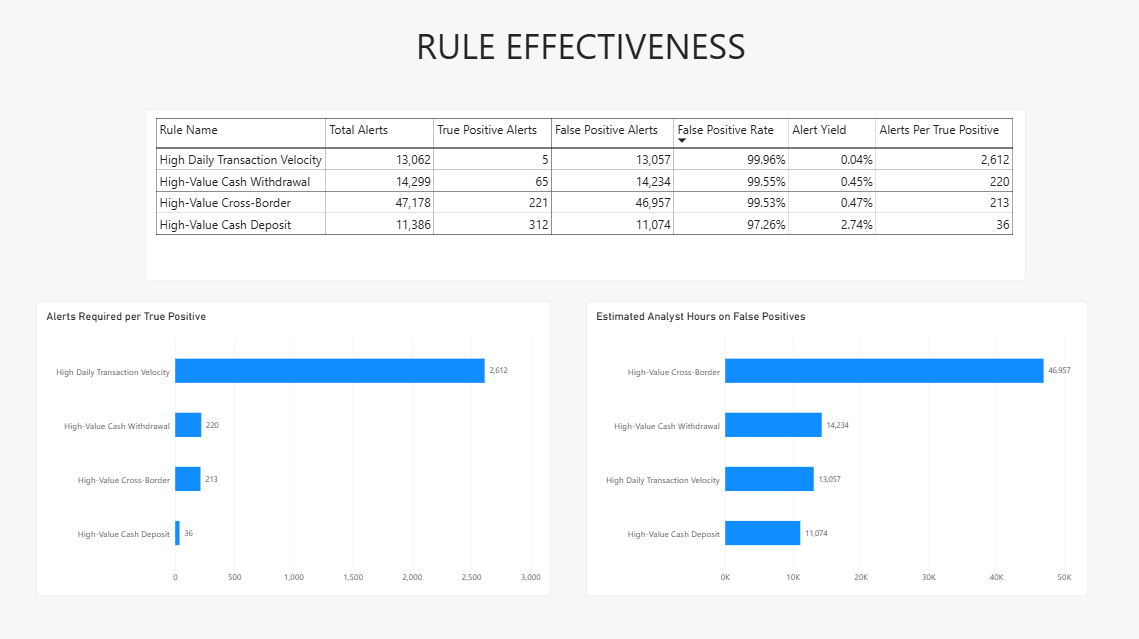

The page's visual inventory and layout, read from the dashboard file:
{"tool":"powerbi","page":{"name":"Rule Effectiveness","canvas":[1920,1080],"ordinal":1},"visuals":[{"type":"tableEx","fields":{"Values":["public monitoring_rules.rule_name","public alerts.Total Alerts","public alerts.True Positive Alerts","public alerts.False Positive Alerts","public alerts.False Positive Rate","public alerts.Alert Yield","public alerts.Alerts Per True Positive"]},"box":[256.7,190,1468.3,286.7],"z":0},{"type":"textbox","box":[708.3,43.3,566.7,96.7],"z":1000},{"type":"clusteredBarChart","title":"Alerts Required per True Positive","fields":{"Category":["public monitoring_rules.rule_name"],"Y":["public alerts.Alerts Per True Positive"]},"box":[75,510,858.3,491.7],"z":2000},{"type":"clusteredBarChart","title":"Estimated Analyst Hours on False Positives","fields":{"Category":["public monitoring_rules.rule_name"],"Y":["public alerts.False Positive Review Hours"]},"box":[991.7,510,836.7,491.7],"z":3000}]}

Visuals, with their boxes in screenshot pixels (x1, y1, x2, y2), scaled from the page's 1920x1080 canvas onto the 1139x639 screenshot:
tableEx - public monitoring_rules.rule_name x public alerts.Total Alerts: [x1=152, y1=112, x2=1023, y2=282]
textbox: [x1=420, y1=26, x2=756, y2=83]
"Alerts Required per True Positive" clusteredBarChart: [x1=44, y1=302, x2=554, y2=593]
"Estimated Analyst Hours on False Positives" clusteredBarChart: [x1=588, y1=302, x2=1085, y2=593]
